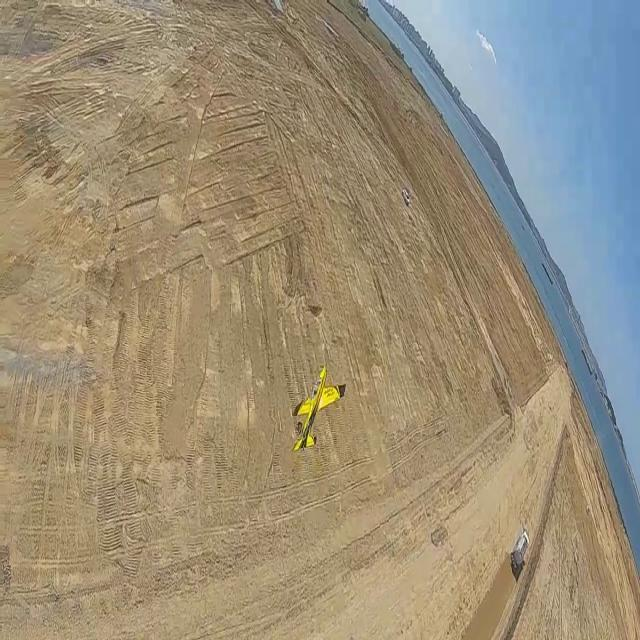iha: (465, 22, 507, 68), (318, 384, 321, 421)
